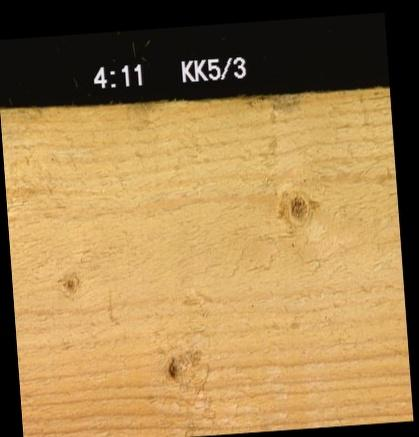small_knot: (59, 270, 79, 292)
sound_knot: (276, 189, 318, 226)
split: (341, 86, 390, 135)
